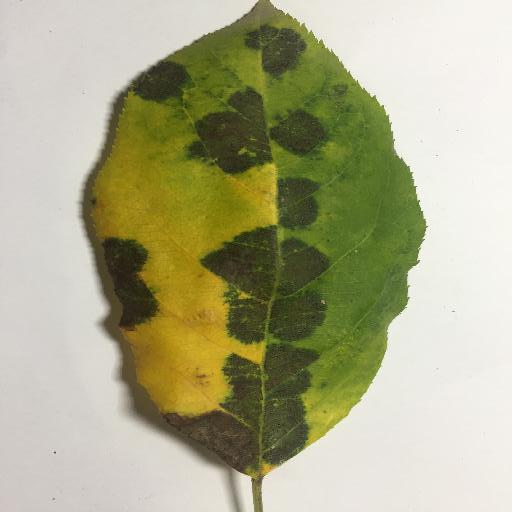Brown_Spot: (173, 411, 258, 477), (210, 236, 258, 281)
